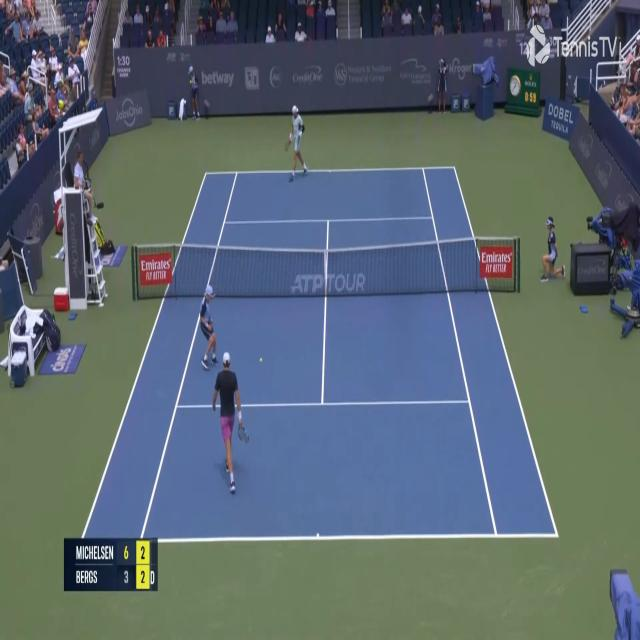tennis-player: (212, 348, 250, 498), (283, 102, 310, 181)
